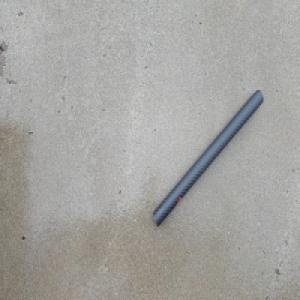LuggagePart: (152, 86, 263, 226)
